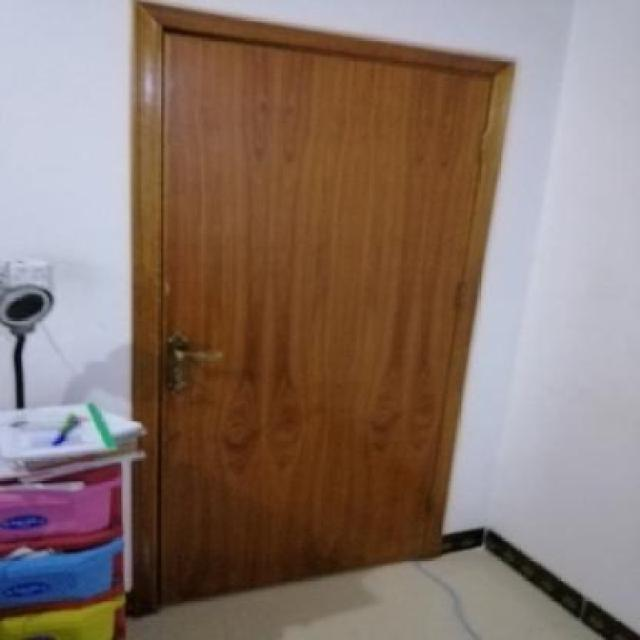door: (129, 0, 519, 611)
